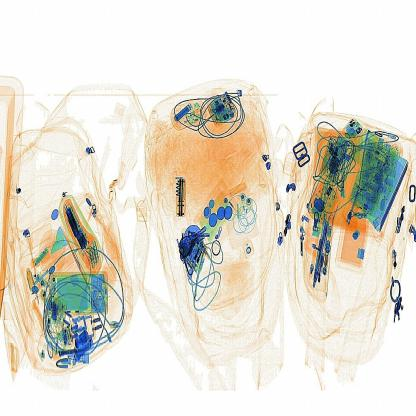scissors: (175, 174, 190, 222)
